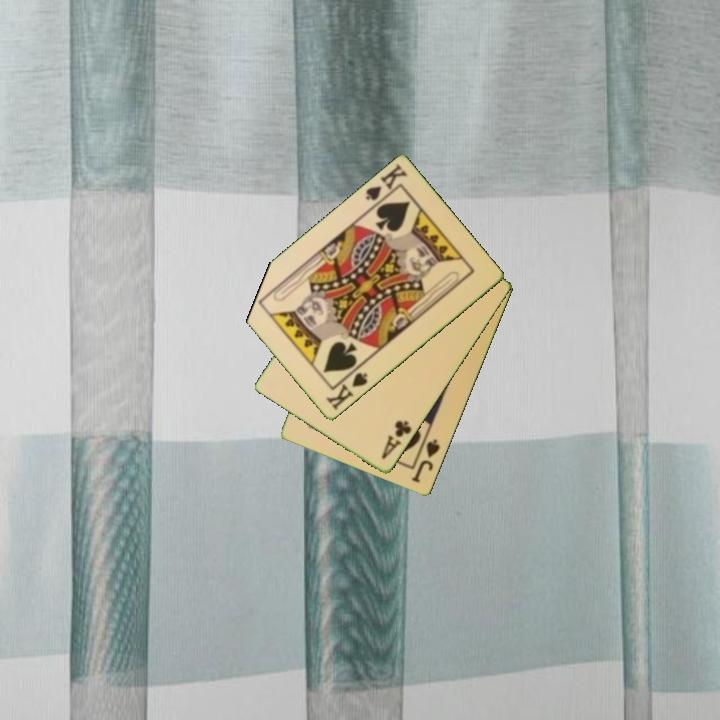Ac: (378, 417, 415, 463)
Js: (408, 436, 443, 486)
Ks: (362, 160, 410, 211), (322, 364, 371, 413)
